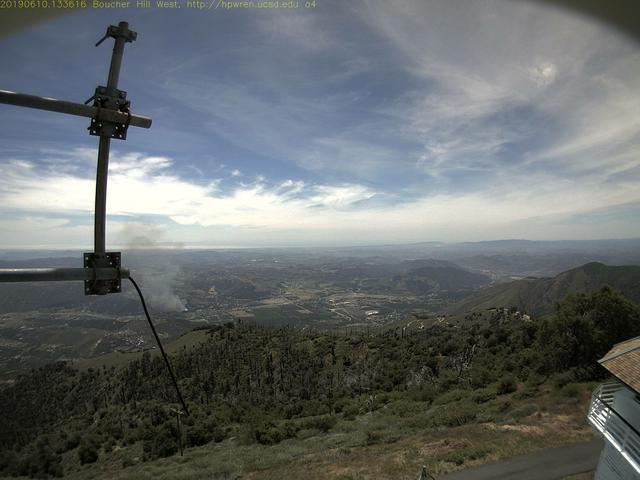smoke: (117, 218, 189, 315)
